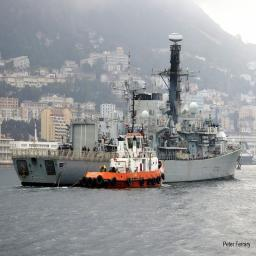Fragata: (11, 29, 245, 193)
